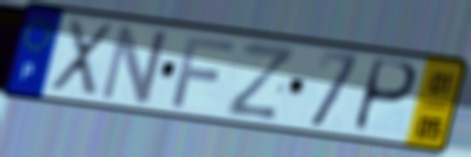7: (308, 46, 360, 133)
F: (169, 34, 239, 111)
N: (97, 21, 172, 107)
P: (349, 55, 421, 137)
X: (45, 16, 117, 101)
Z: (223, 39, 298, 123)
